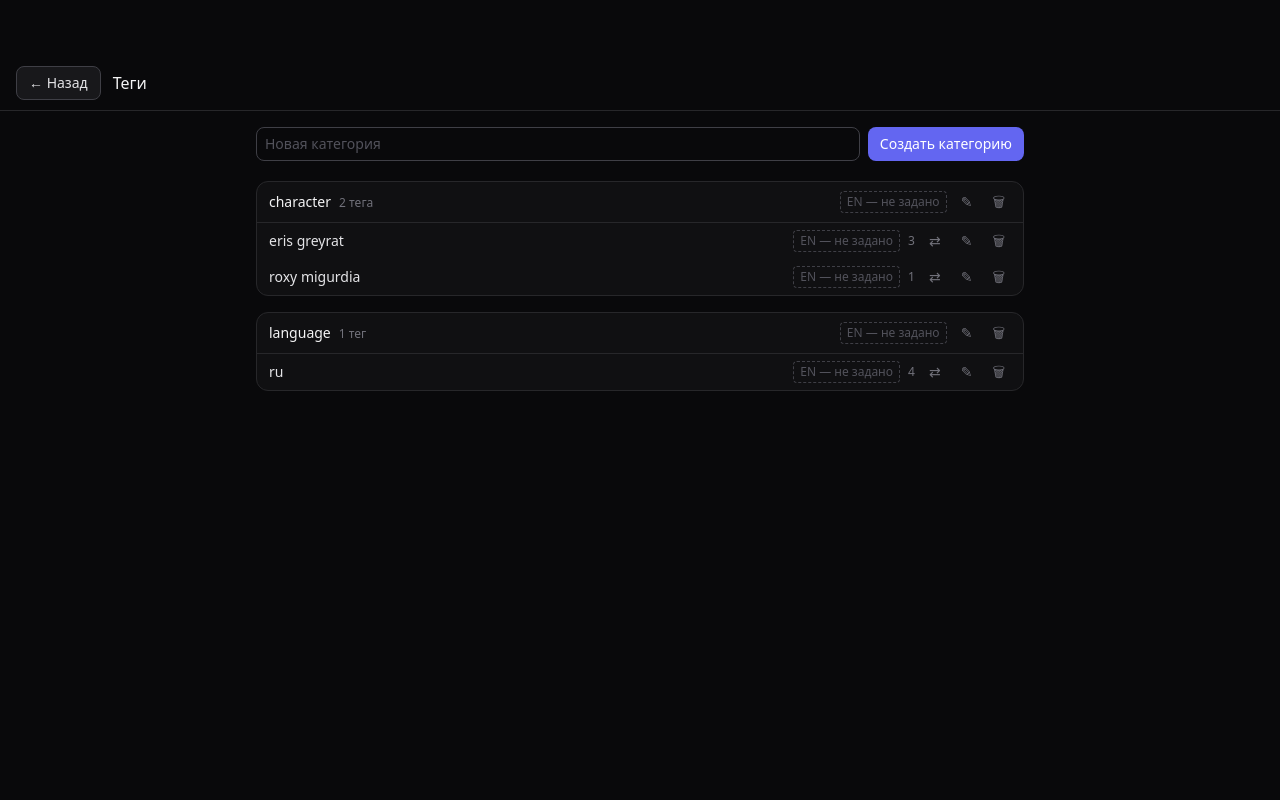
Test: TagsScreen: теги › имя занято (409) - предложение слить, «Слить» вызывает POST /tags/:id/merge
Expected: the element named "Категория character" is shown, top-left (256, 181), bottom-right (1024, 296)
Click the button named "Переименовать тег «roxy migurdia»" at (966, 277), box top-left (955, 265), bottom-right (978, 289)
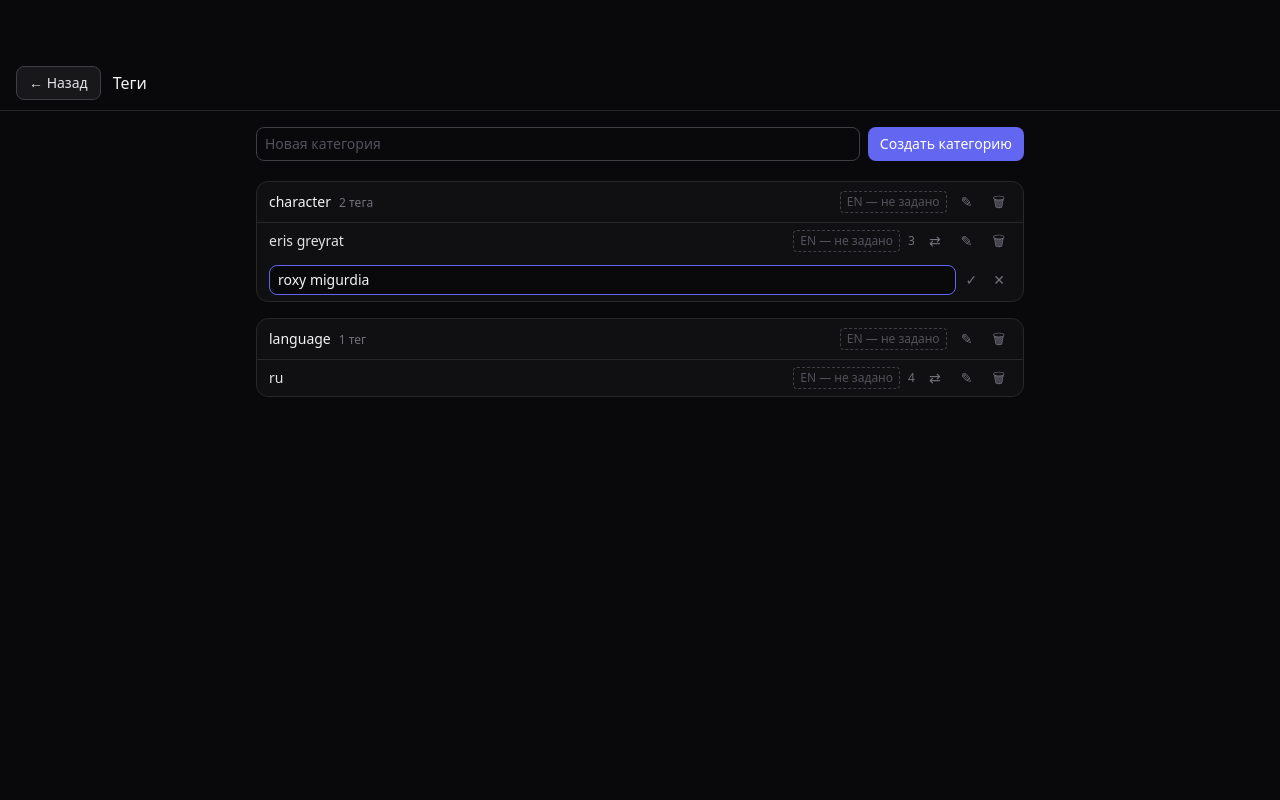
Replace the text in the field named "Новое имя тега" with "Eris Greyrat" at (612, 280), box top-left (269, 265), bottom-right (956, 295)
Then press Enter
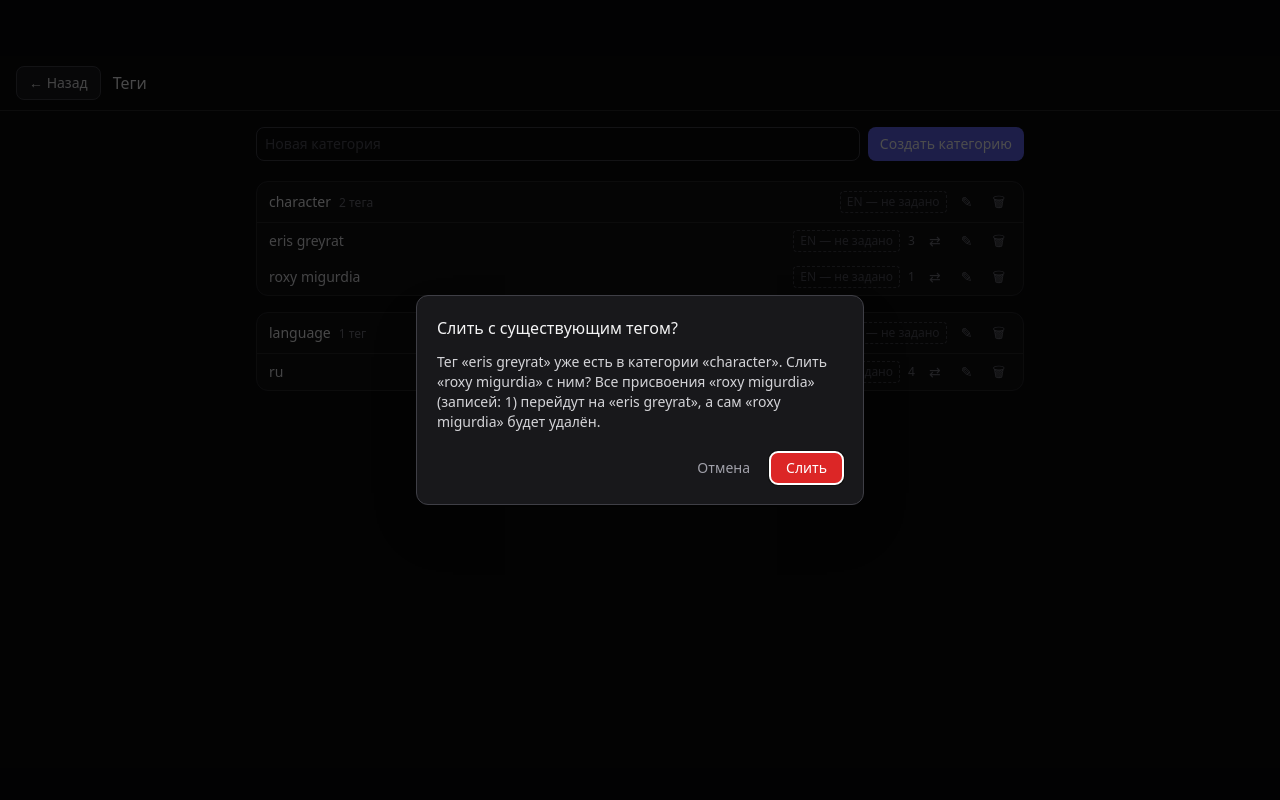
Expected: the dialog "Слить с существующим тегом?" shows "«eris greyrat» уже есть в категории «character»", top-left (437, 352), bottom-right (827, 431)
Expected: the dialog "Слить с существующим тегом?" shows "записей: 1", top-left (437, 352), bottom-right (827, 431)
Click the button "Слить" at (807, 468), box top-left (770, 452), bottom-right (843, 484)
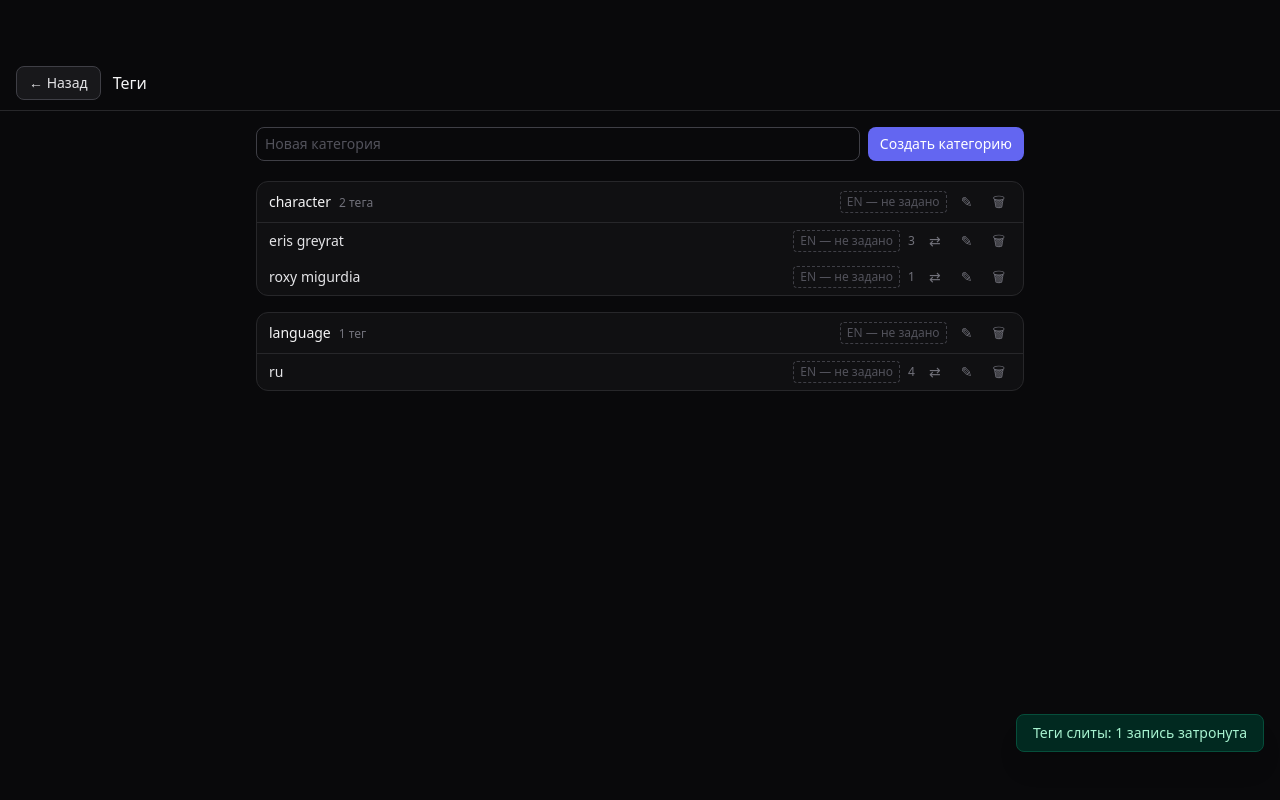
Expected: the text "Теги слиты: 1 запись затронута" is shown, top-left (1016, 714), bottom-right (1264, 752)
